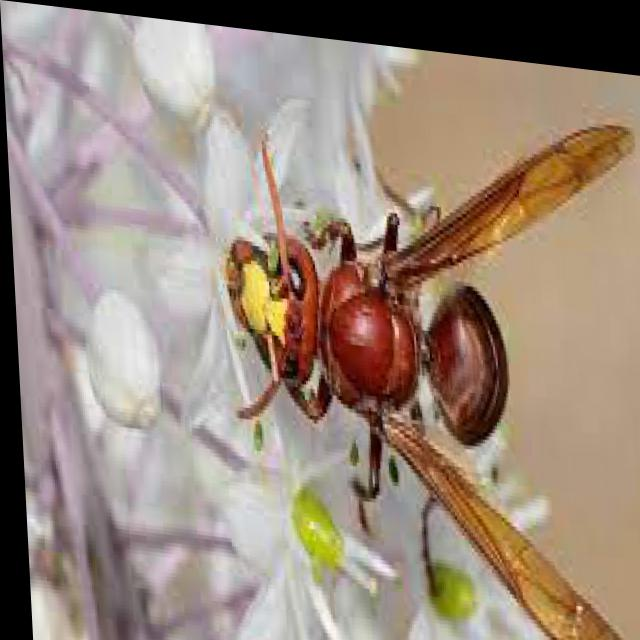Vespa Orientalis: (186, 55, 639, 639)
